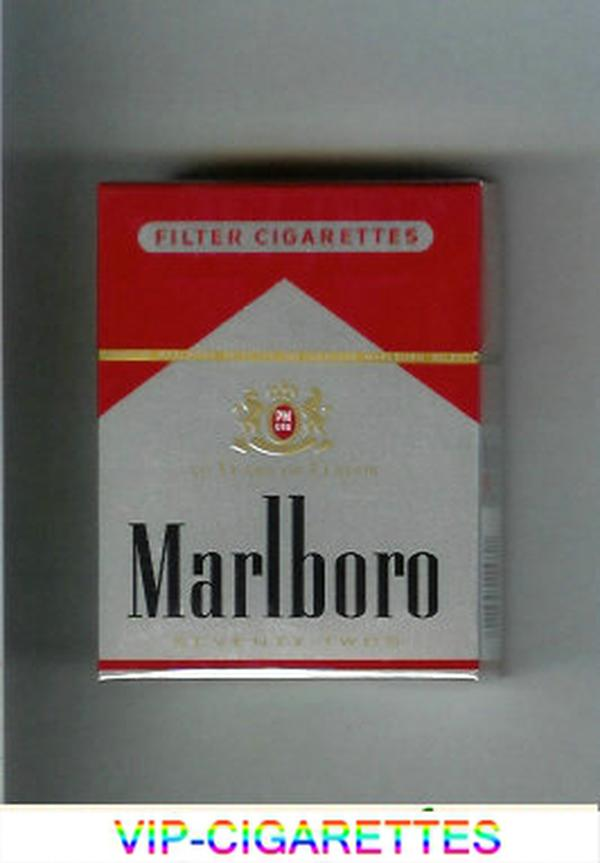marlboro_red: (100, 186, 474, 679)
